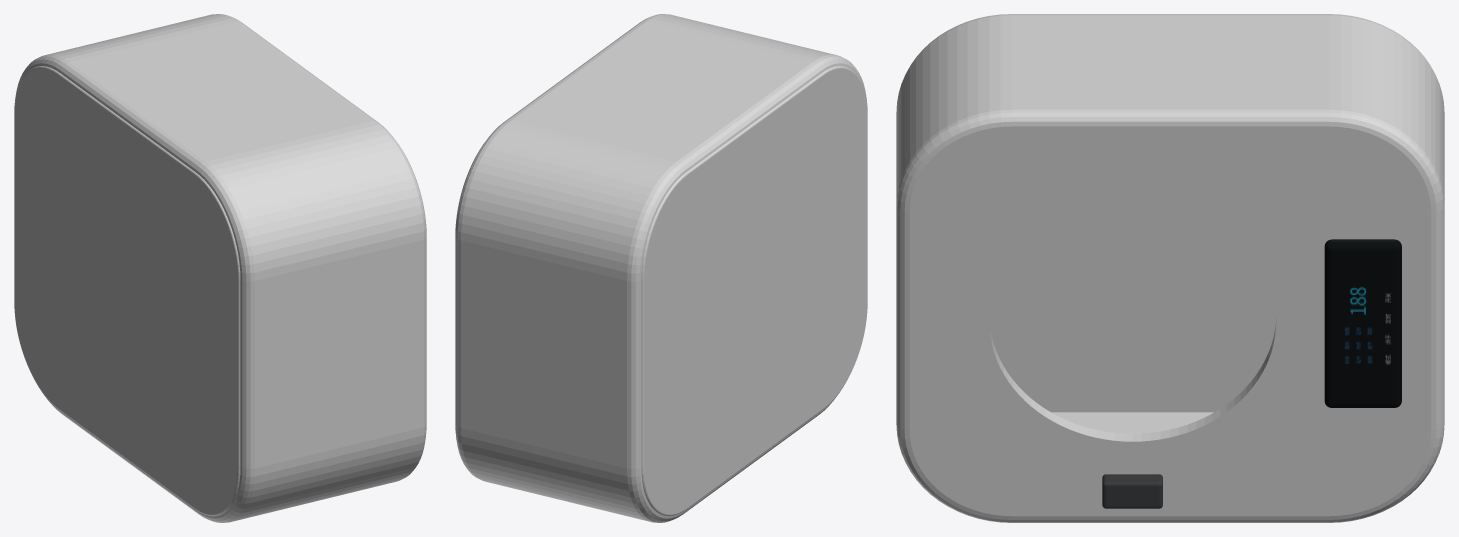
The picture shows the model from 3 angles, left to right: view 1: azimuth 30°, elevation 25°; view 2: azimuth 150°, elevation 25°; view 3: azimuth 270°, elevation 25°; orthographic projection. The views are drawn at different scales.
Visible parts, largest first — view 1: __articraft_commit_0004_0000, __articraft_commit_0004_0001; view 2: __articraft_commit_0004_0000, __articraft_commit_0004_0001; view 3: __articraft_commit_0004_0000, __articraft_commit_0004_0002, __articraft_commit_0004_0003.
Boxes of the visible parts, x1,y1,x2,y2 form: __articraft_commit_0004_0000: [14, 14, 426, 522]; __articraft_commit_0004_0001: [14, 66, 240, 516]; __articraft_commit_0004_0000: [455, 14, 867, 522]; __articraft_commit_0004_0001: [641, 66, 867, 516]; __articraft_commit_0004_0000: [896, 14, 1444, 522]; __articraft_commit_0004_0002: [1324, 239, 1401, 407]; __articraft_commit_0004_0003: [1102, 474, 1162, 508].
Size of the model in its own units: 0.1444 by 0.2405 by 0.29.
3 materials, 1 textured.
